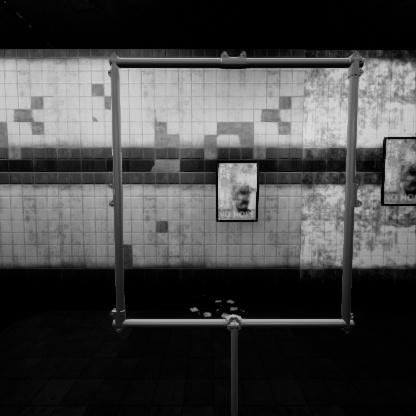gate: (111, 83, 386, 360)
